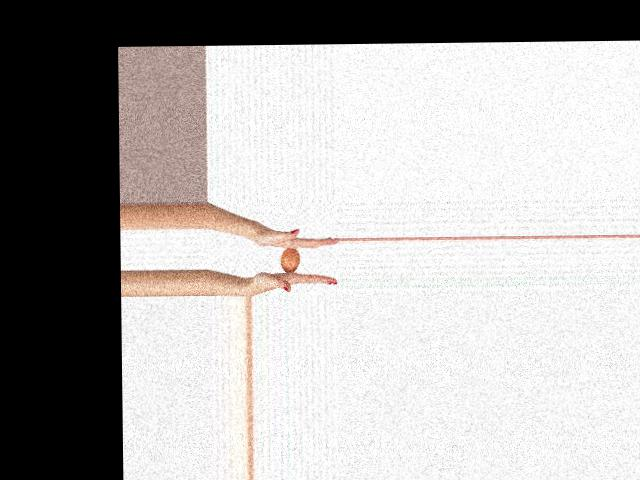egg: (280, 247, 299, 271)
